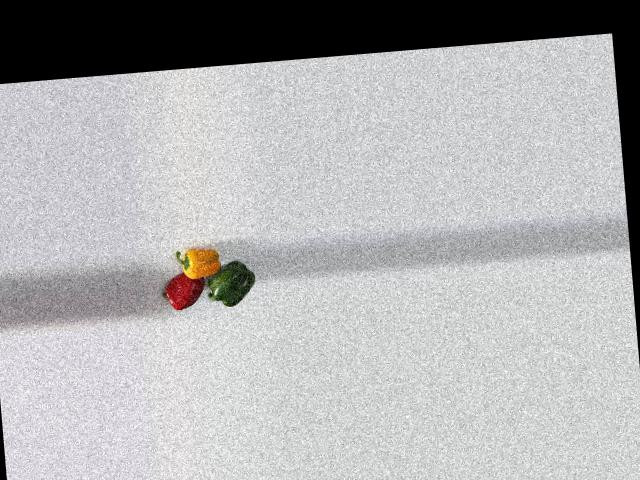bell_pepper: (174, 243, 222, 286)
